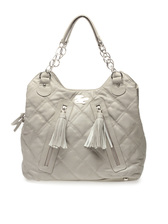bag: (10, 15, 148, 186)
